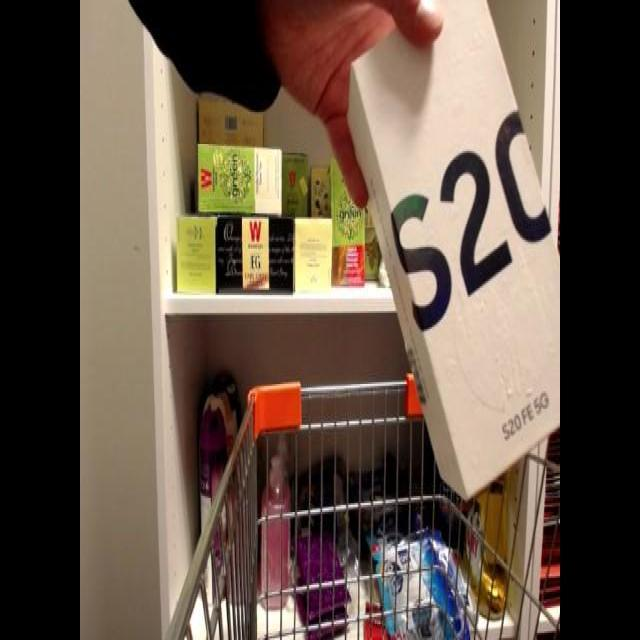Samsung S20: (342, 2, 558, 500)
